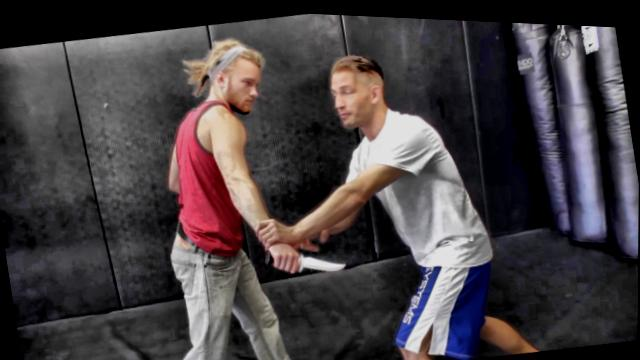knife: (262, 235, 354, 284)
